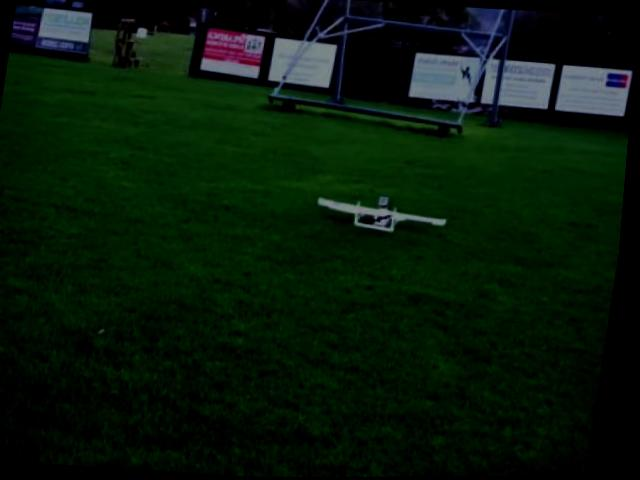uav: (306, 182, 462, 247)
